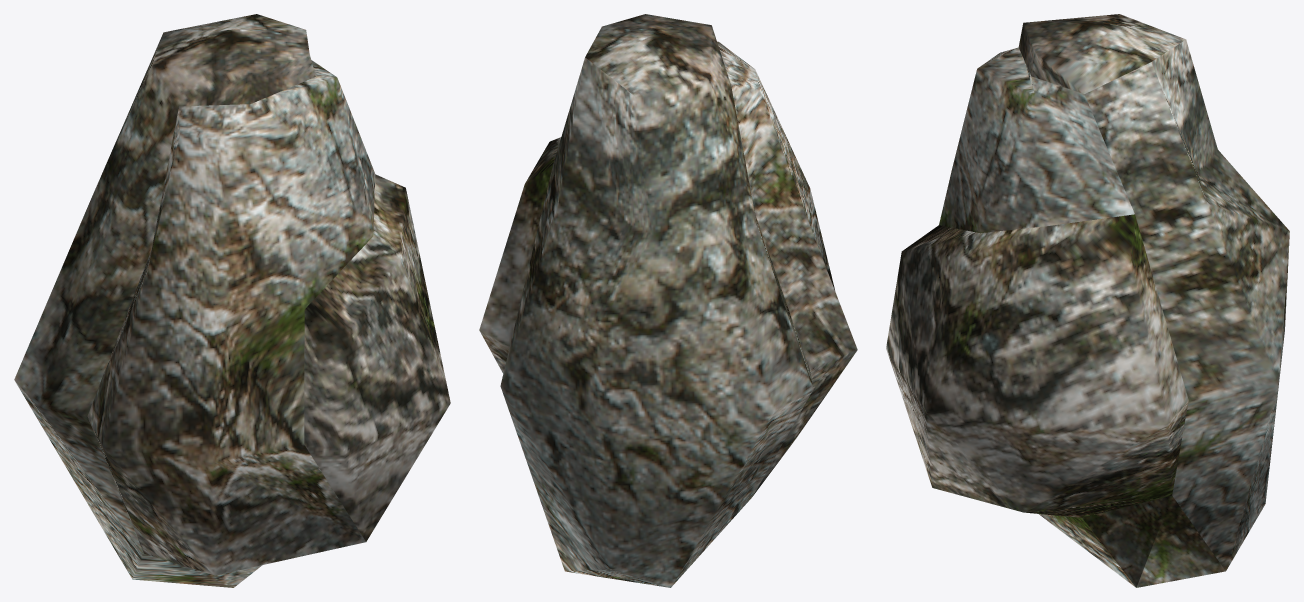
The model's file is shijieditu_13.FBX.
3 renders of one model, left to right at view 1: azimuth 30°, elevation 25°; view 2: azimuth 150°, elevation 25°; view 3: azimuth 270°, elevation 25°, orthographic. The views are drawn at different scales.
Visible parts, largest first — view 1: shijieditu_13; view 2: shijieditu_13; view 3: shijieditu_13.
Part boxes in pixels (x1=…): shijieditu_13: x1=14, y1=14, x2=450, y2=587; shijieditu_13: x1=479, y1=14, x2=857, y2=587; shijieditu_13: x1=886, y1=14, x2=1289, y2=587.
Bounding box in the file's own units: 54.15 × 82.13 × 54.29.
